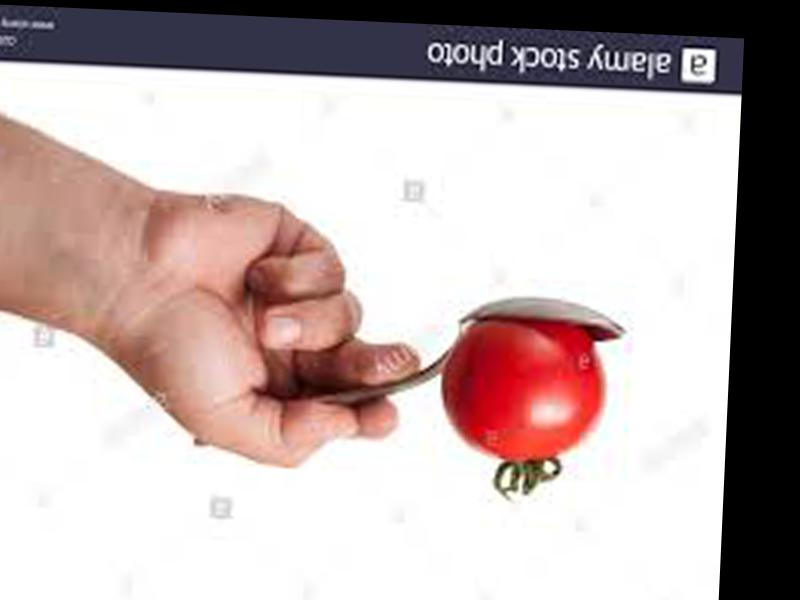Tomato: (437, 318, 605, 466)
